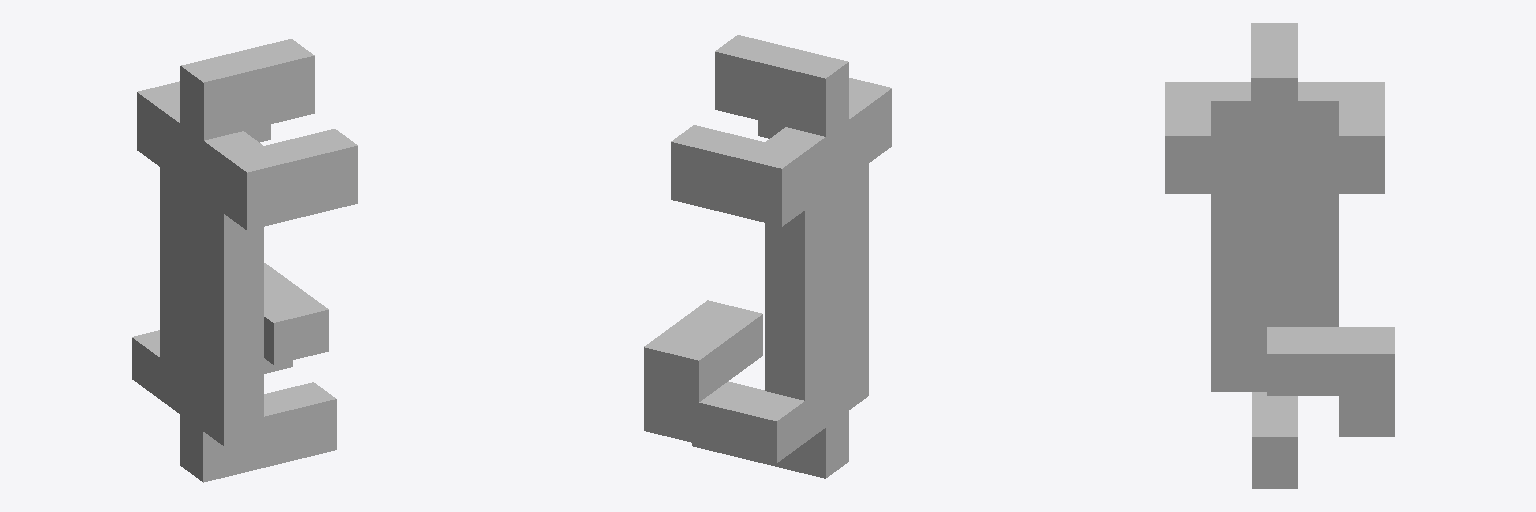
The picture shows the model from 3 angles: view 1: azimuth 30°, elevation 25°; view 2: azimuth 150°, elevation 25°; view 3: azimuth 270°, elevation 25°; orthographic projection.
Visible parts, largest first — view 1: mesh_1_Long-5.001; view 2: mesh_1_Long-5.001; view 3: mesh_1_Long-5.001.
Part boxes in pixels (left/top/right/bottom): mesh_1_Long-5.001: left=132, top=39, right=357, bottom=482; mesh_1_Long-5.001: left=644, top=35, right=891, bottom=478; mesh_1_Long-5.001: left=1165, top=23, right=1394, bottom=488.
Size of the model in its own units: 0.06 by 0.172 by 0.09.